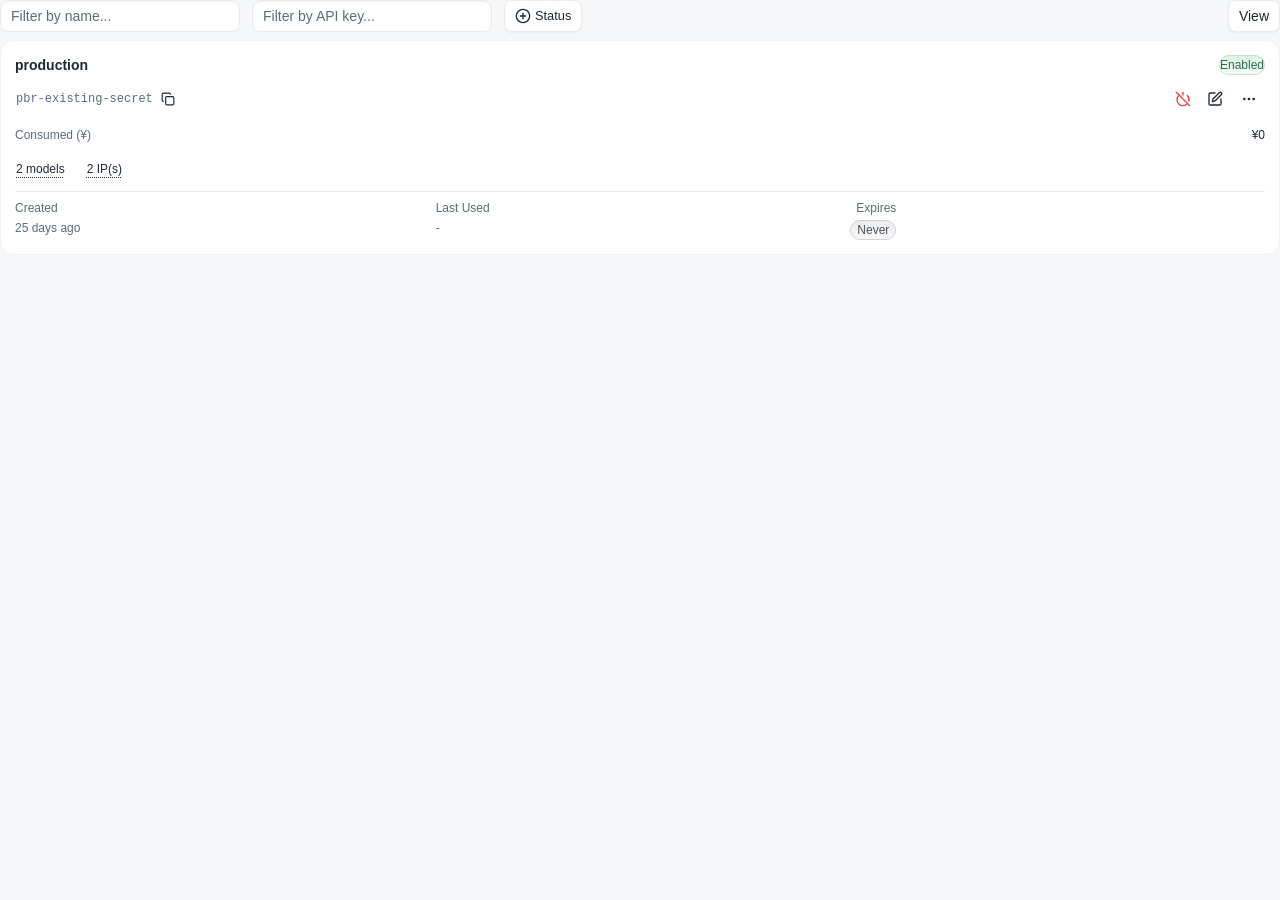
Scenario: shows model and IP restrictions in the mobile card details
Expected: the text "production" is shown, [15,55,88,75]
Step 1. Click the button with aria-label "Models: 2 model" → (40, 169), box [15,155,66,183]
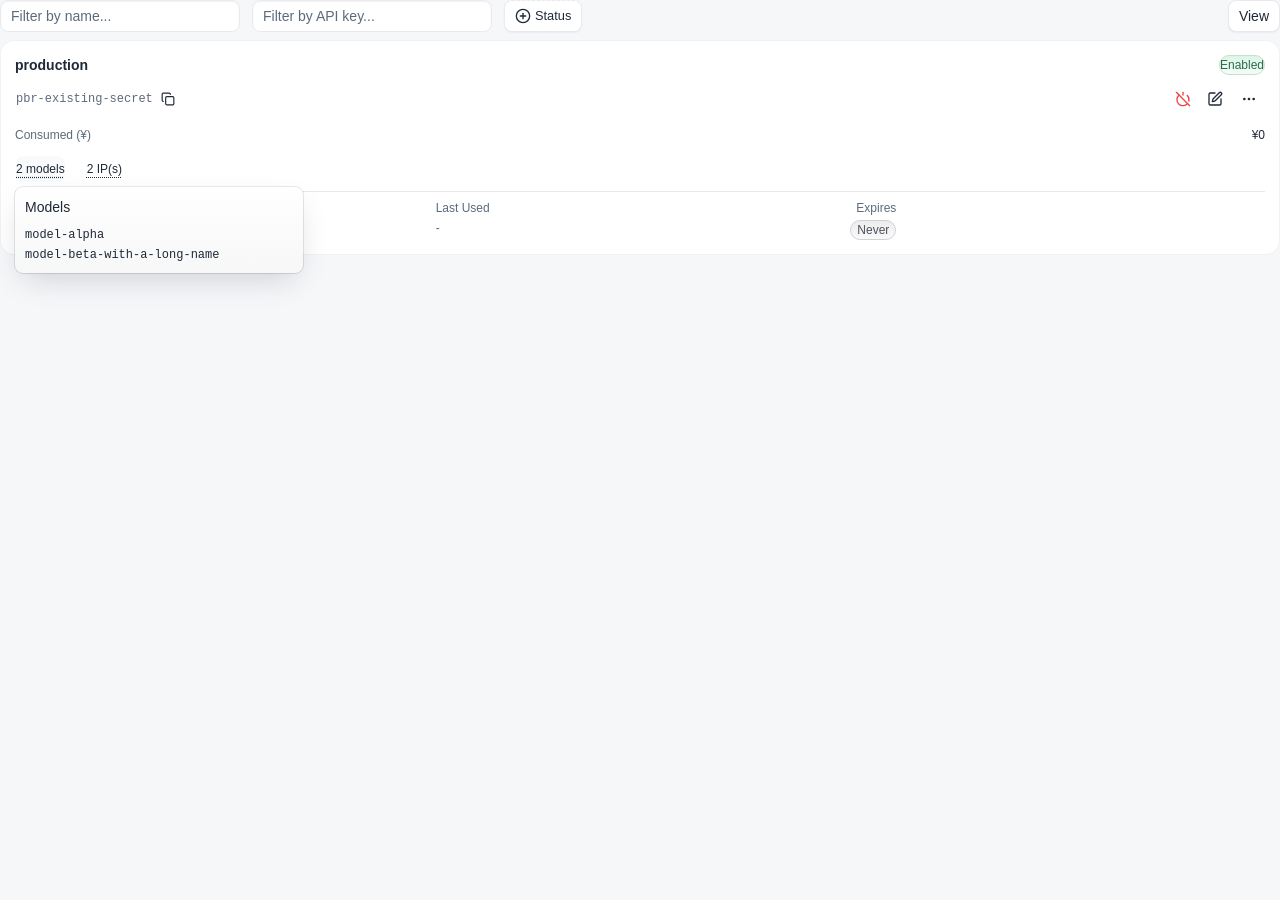
Result: the text "model-alpha" is shown at [25,228,104,242]
Result: the text "model-beta-with-a-long-name" is shown at [25,248,219,262]
Step 2. Press Escape
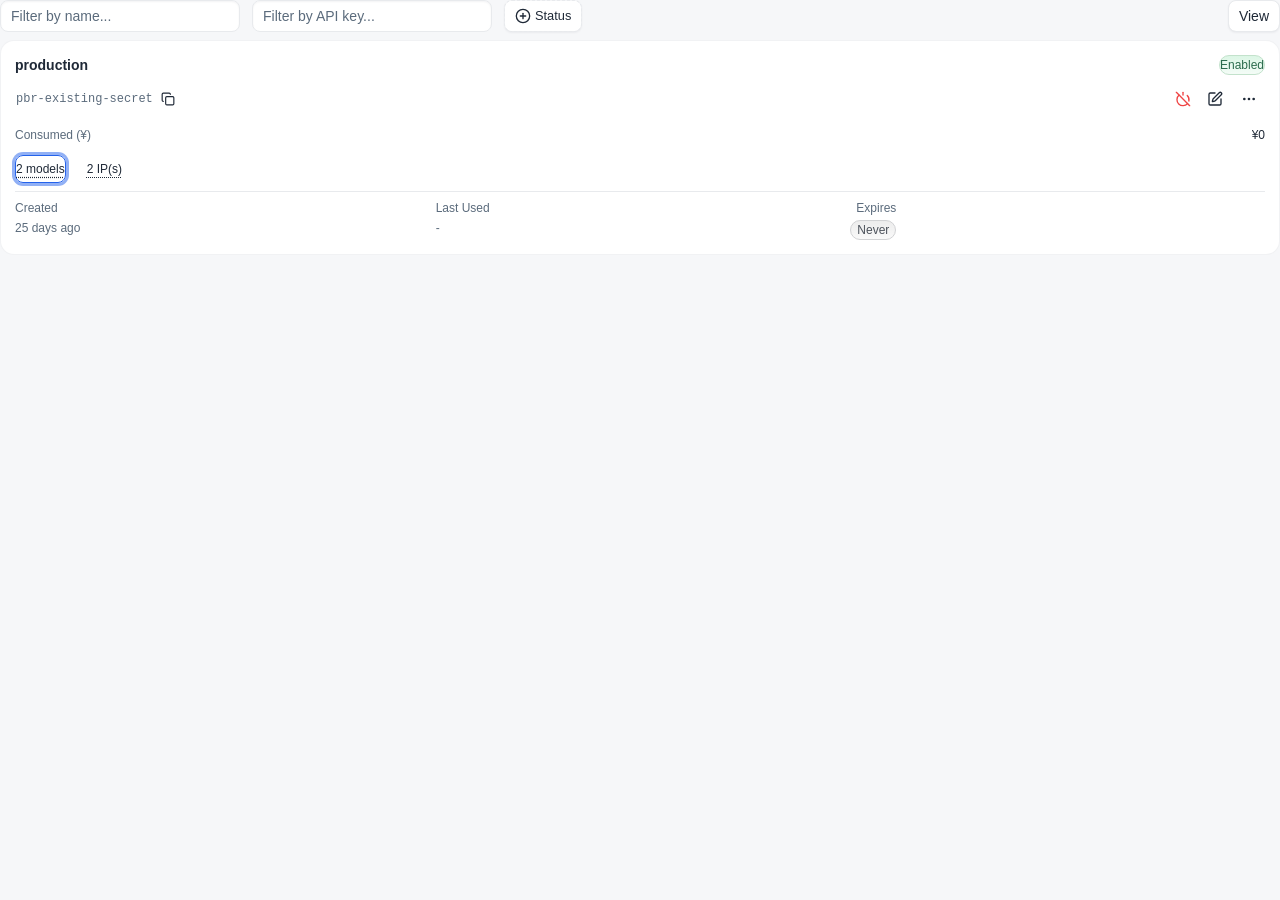
Step 3. Click the button with aria-label "IP Restriction: 2 IP" → (104, 169), box [86,155,123,183]
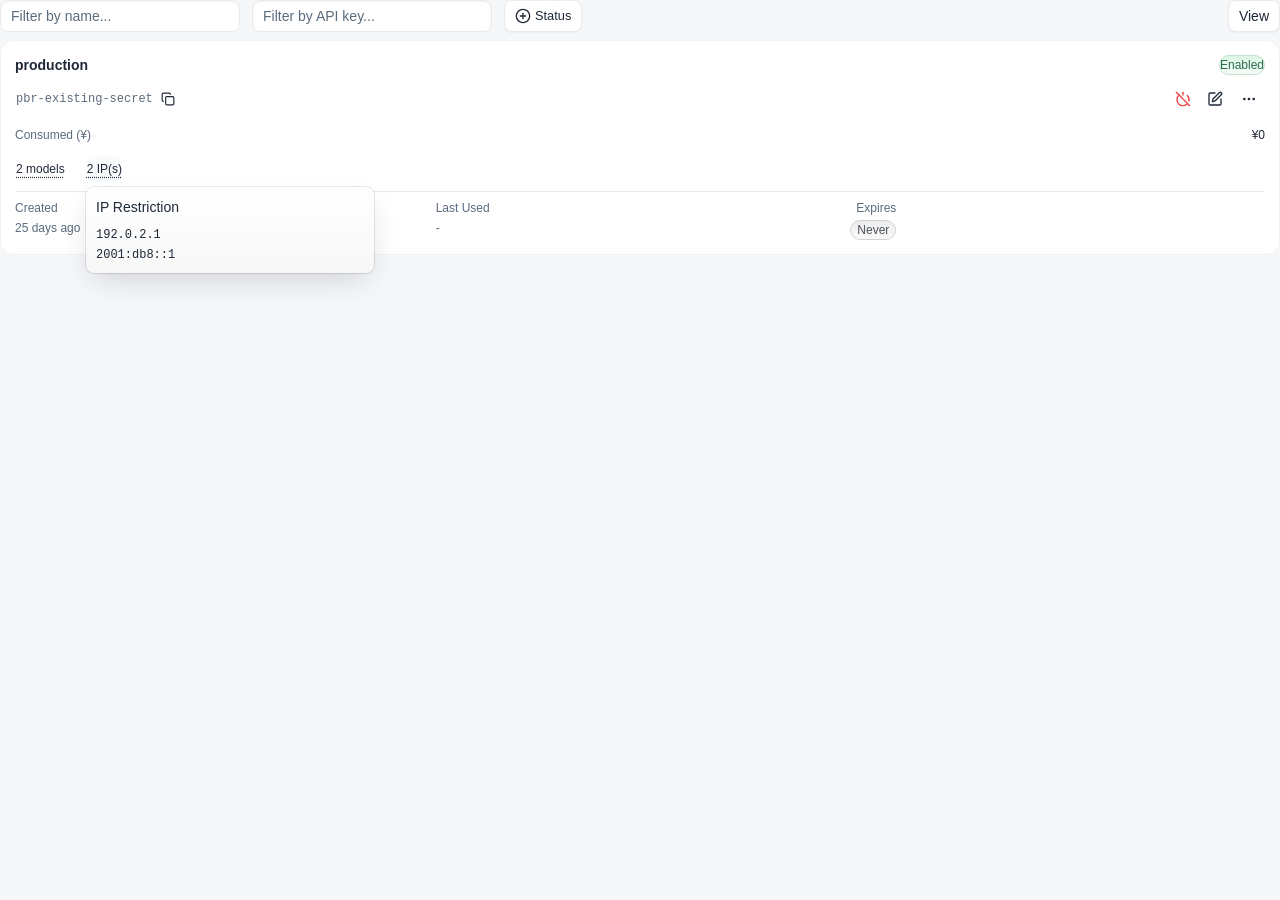
Result: the text "192.0.2.1" is shown at [96,228,161,242]
Result: the text "2001:db8::1" is shown at [96,248,175,262]
